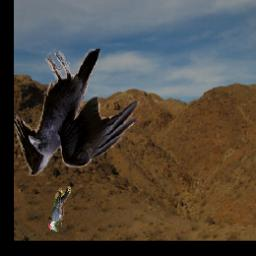Crow: (14, 50, 140, 177)
Woodpecker: (47, 187, 70, 233)
